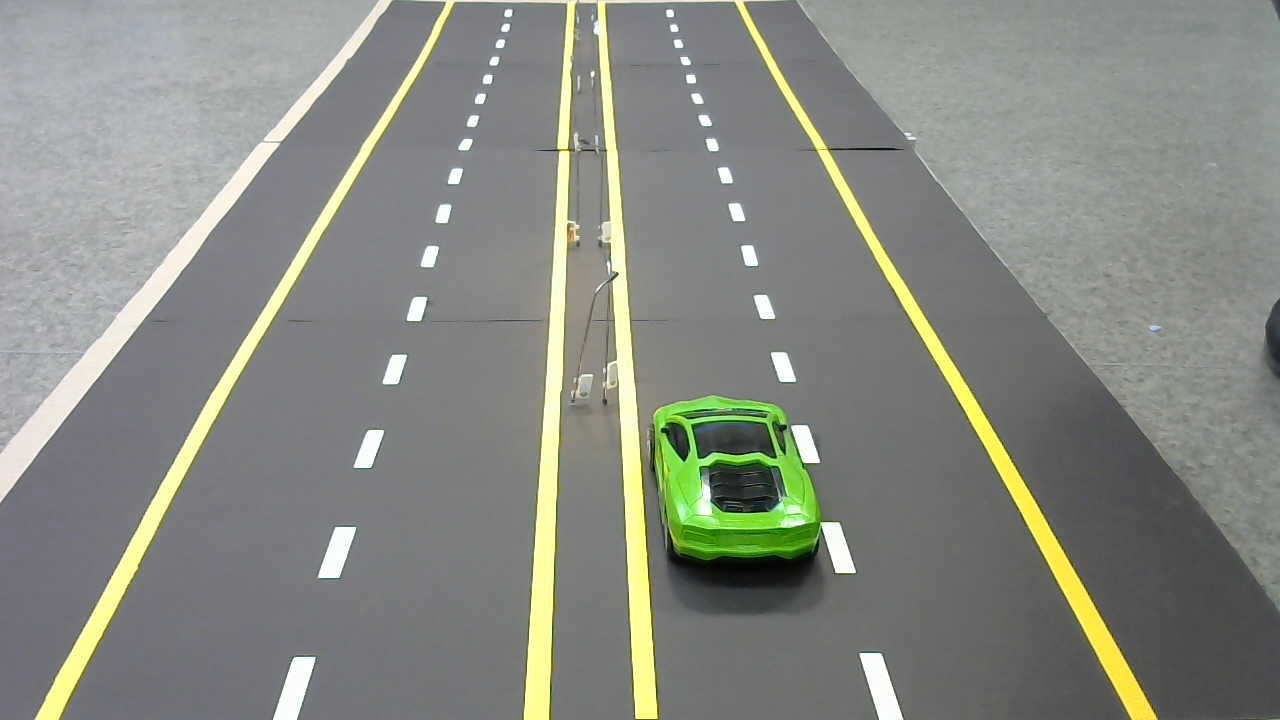back_car: (643, 392, 828, 568)
